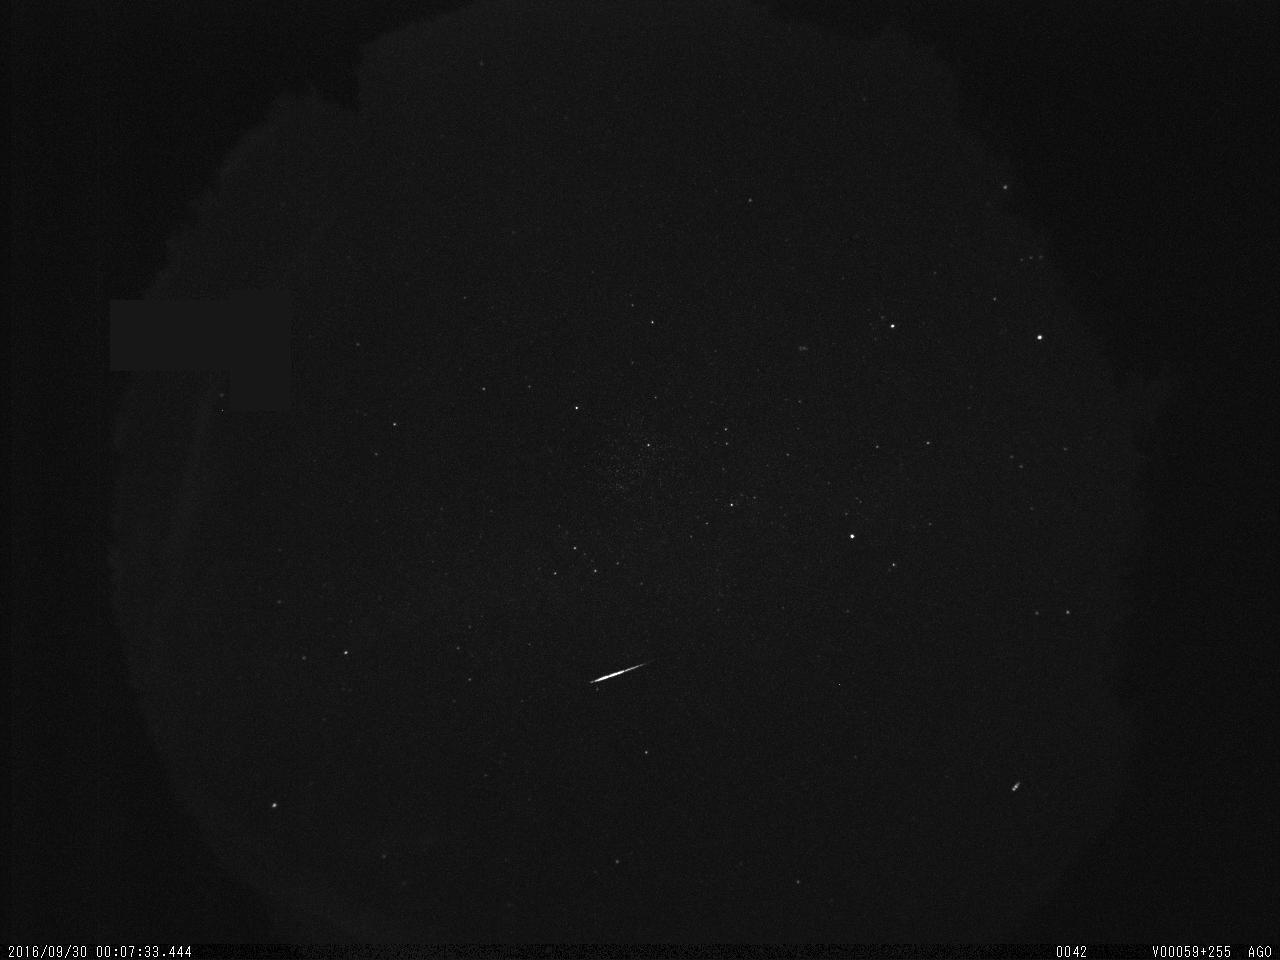meteor: (579, 651, 663, 689)
